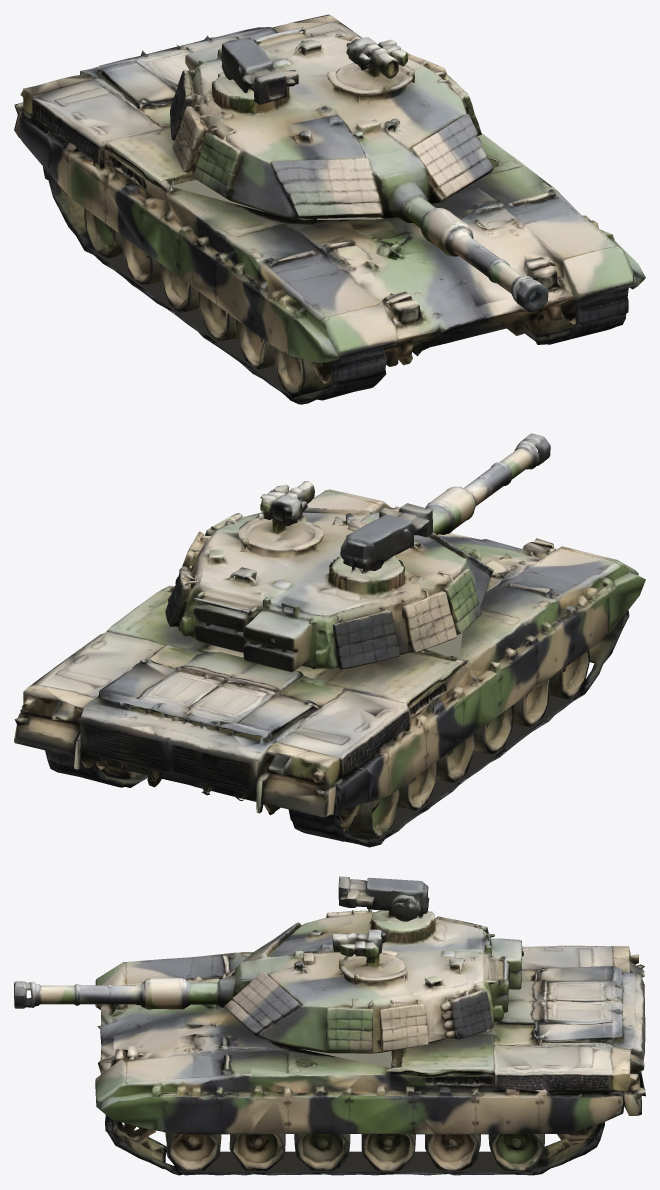
File: tank-leopard-2a7v.glb
The picture shows the model from 3 angles, top to bottom: view 1: azimuth 30°, elevation 25°; view 2: azimuth 150°, elevation 25°; view 3: azimuth 270°, elevation 25°; orthographic projection. The views are drawn at different scales.
Visible parts, largest first — view 1: Hull, Turret, Gun; view 2: Hull, Turret, Gun; view 3: Hull, Turret, Gun.
Part boxes in pixels (x1,y1,x2,y2): Hull: [14, 14, 645, 404]; Turret: [108, 27, 493, 222]; Gun: [404, 197, 548, 312]; Hull: [14, 489, 645, 847]; Turret: [108, 481, 493, 701]; Gun: [425, 433, 550, 534]; Hull: [95, 945, 645, 1175]; Turret: [218, 876, 523, 1068]; Gun: [14, 978, 218, 1009].
Bounding box in the file's own units: 3.8 × 2.68 × 7.56.
Materials: 3 (1 with a texture image).
